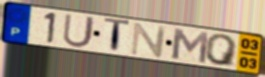1: (42, 11, 59, 45)
M: (171, 27, 211, 65)
N: (129, 22, 169, 59)
Q: (205, 34, 240, 68)
T: (103, 17, 132, 56)
U: (61, 13, 97, 50)
